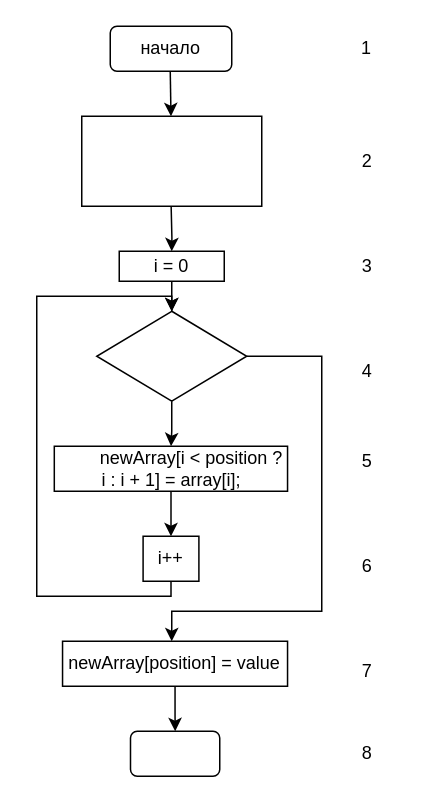
Image size: 438x803. Some labels were removed from this diagram. The shapes that lost their labels are listed below. From the top down, each one's box as (x1, y1, x2, y2) in pixels, then its label:
(80, 115, 262, 206): newArray = new double[arraySize + 1]
(95, 310, 247, 401): i < arraySize
(129, 730, 220, 776): конец
